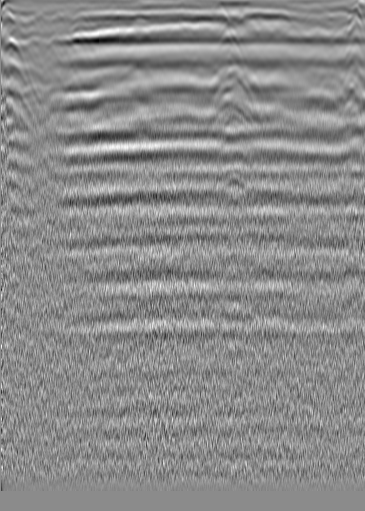가스: (212, 162, 256, 194)
상수: (306, 22, 326, 42)
오수: (23, 32, 43, 52)
우수: (157, 24, 177, 44)
